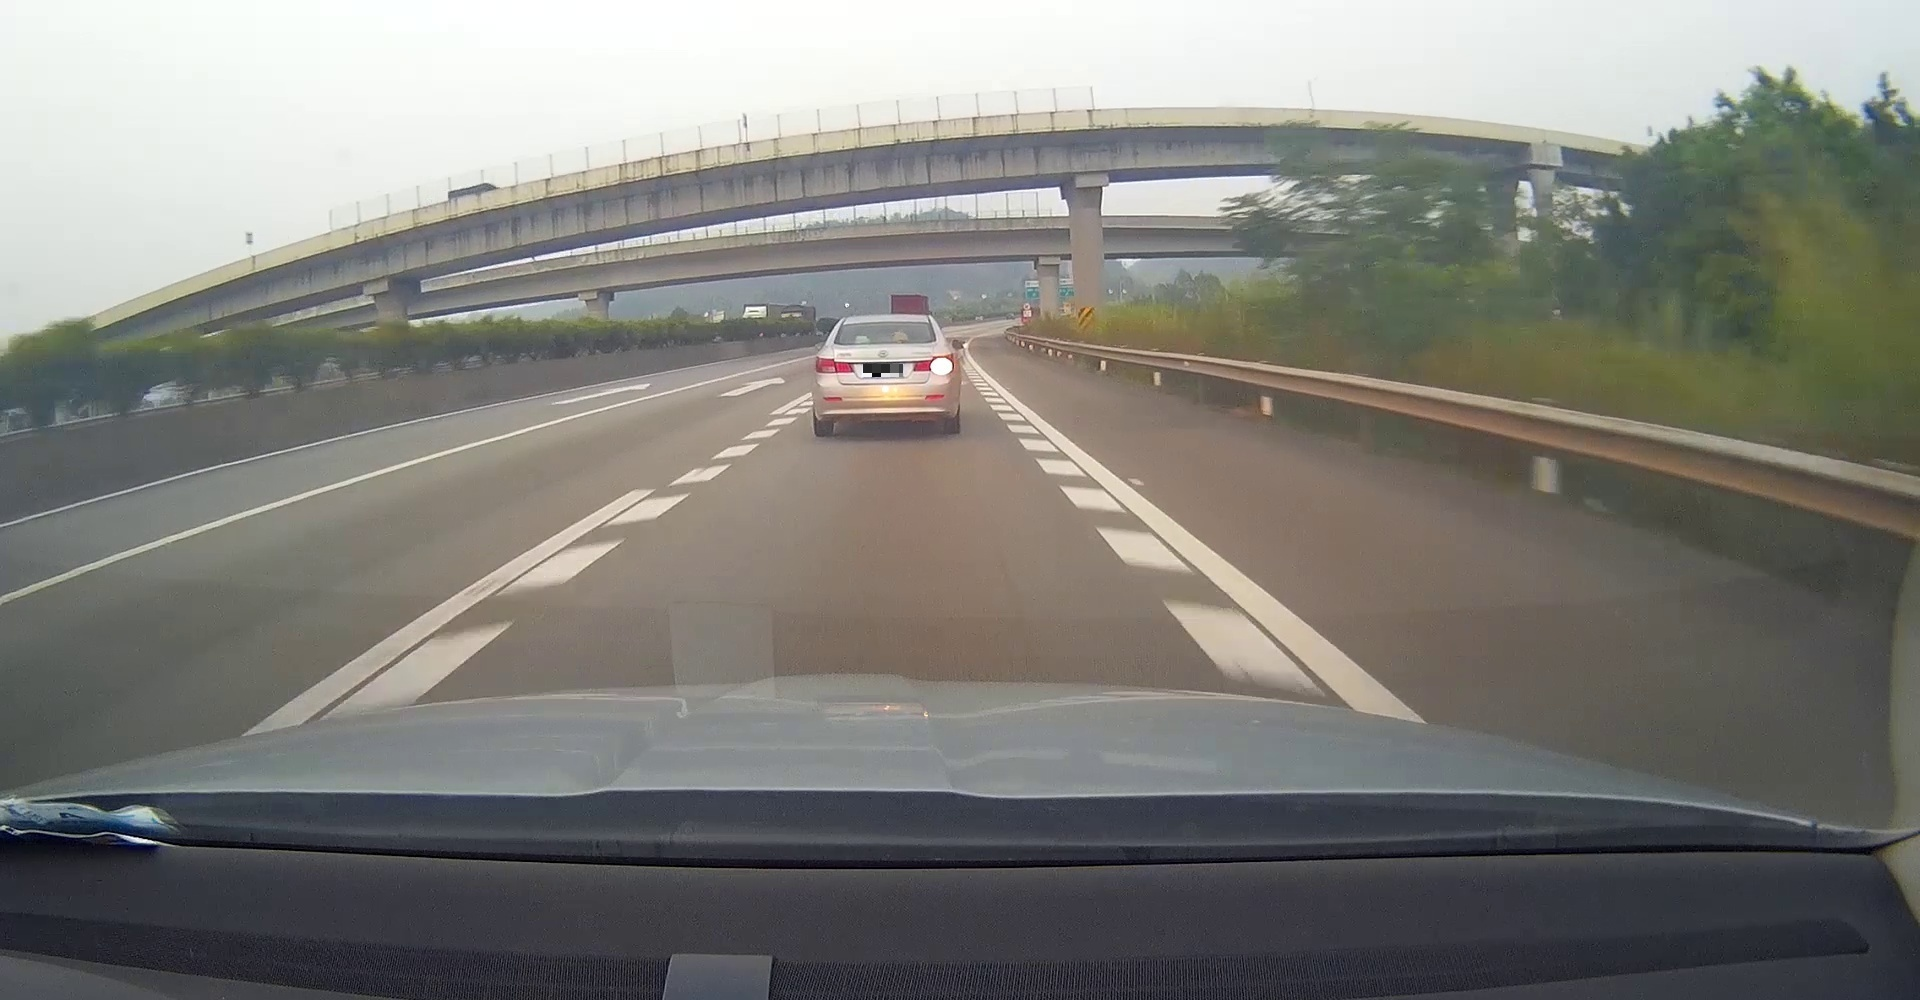L_light: (817, 357, 853, 374)
R_light: (914, 354, 954, 374)
T_light: (876, 339, 891, 343)
day-right: (813, 313, 963, 438)
plate_1: (863, 364, 903, 377)
